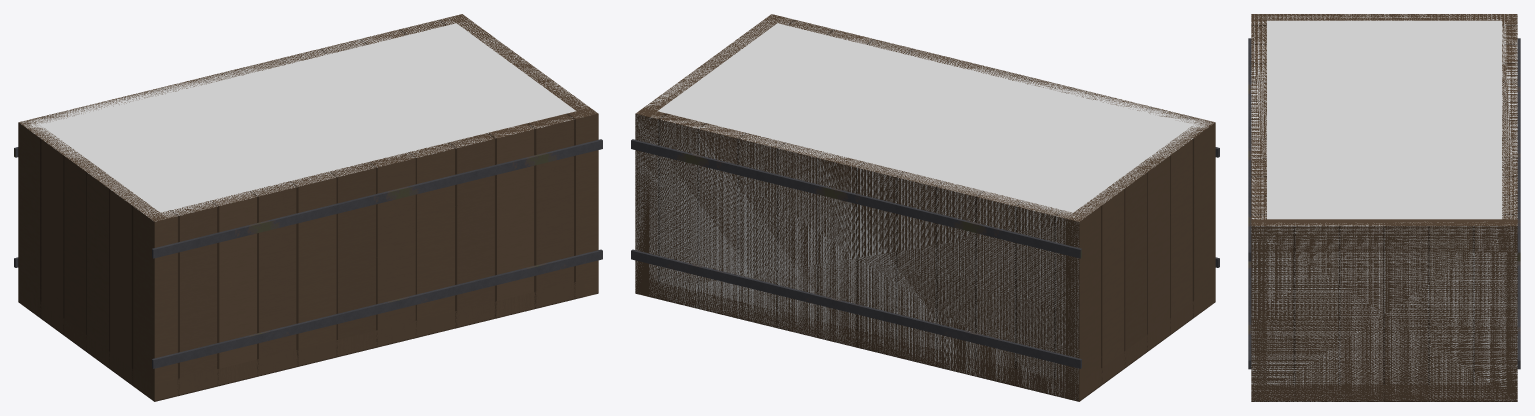
File: bathtub.glb
3 views of the same model, side by side, from view 1: azimuth 30°, elevation 25°; view 2: azimuth 150°, elevation 25°; view 3: azimuth 270°, elevation 25° (orthographic). The views are drawn at different scales.
Visible parts, largest first — view 1: bathtub, COL_HULL_bathtub; view 2: bathtub, COL_HULL_bathtub; view 3: COL_HULL_bathtub, bathtub.
Part boxes in pixels (box(x1,y1,x2,y2)): bathtub: box(14, 14, 602, 401); COL_HULL_bathtub: box(19, 15, 589, 221); bathtub: box(631, 14, 1219, 401); COL_HULL_bathtub: box(635, 14, 1214, 399); COL_HULL_bathtub: box(1251, 14, 1517, 401); bathtub: box(1248, 14, 1520, 401).
Size of the model in its own units: 1.62 by 0.62 by 0.87.
Materials: 3 (3 with a texture image).
